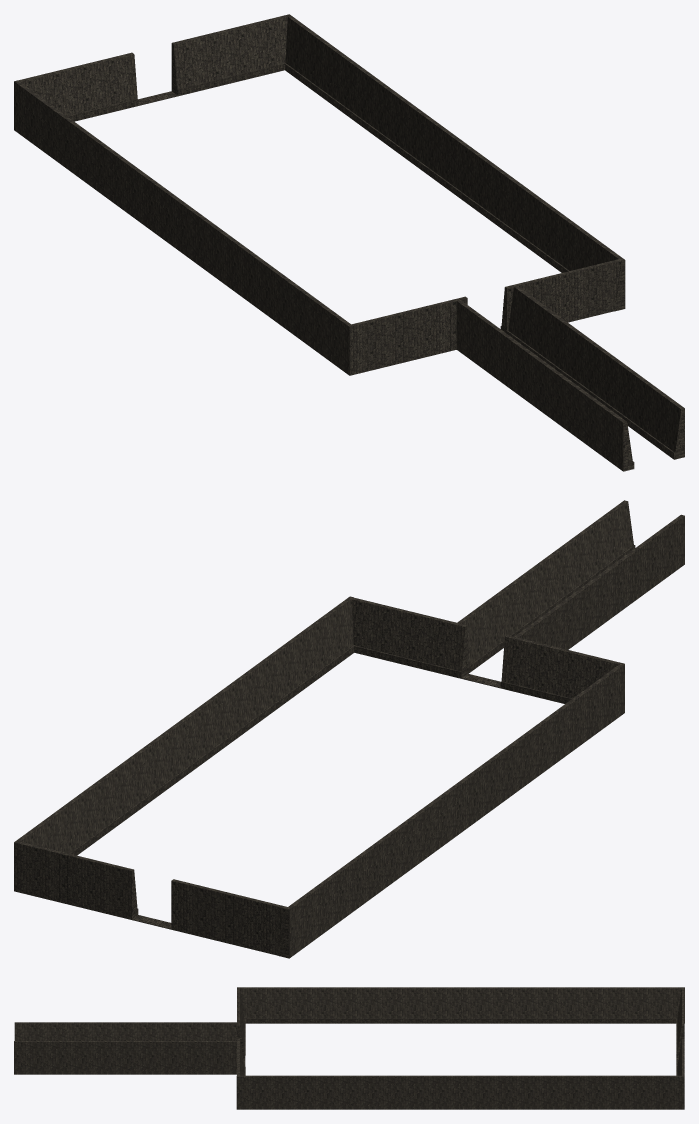
Rendered from room_longer.fbx.
The picture shows the model from 3 angles, top to bottom: view 1: azimuth 30°, elevation 25°; view 2: azimuth 150°, elevation 25°; view 3: azimuth 270°, elevation 25°; orthographic projection. The views are drawn at different scales.
Visible parts, largest first — view 1: polySurface12; view 2: polySurface12; view 3: polySurface12.
Boxes of the visible parts, box(x1,y1,x2,y2) form: polySurface12: box(14, 14, 684, 471); polySurface12: box(14, 500, 684, 958); polySurface12: box(14, 987, 684, 1109).
Bounding box in the file's own units: 70.74 × 12 × 224.
Materials: 2 (1 with a texture image).
